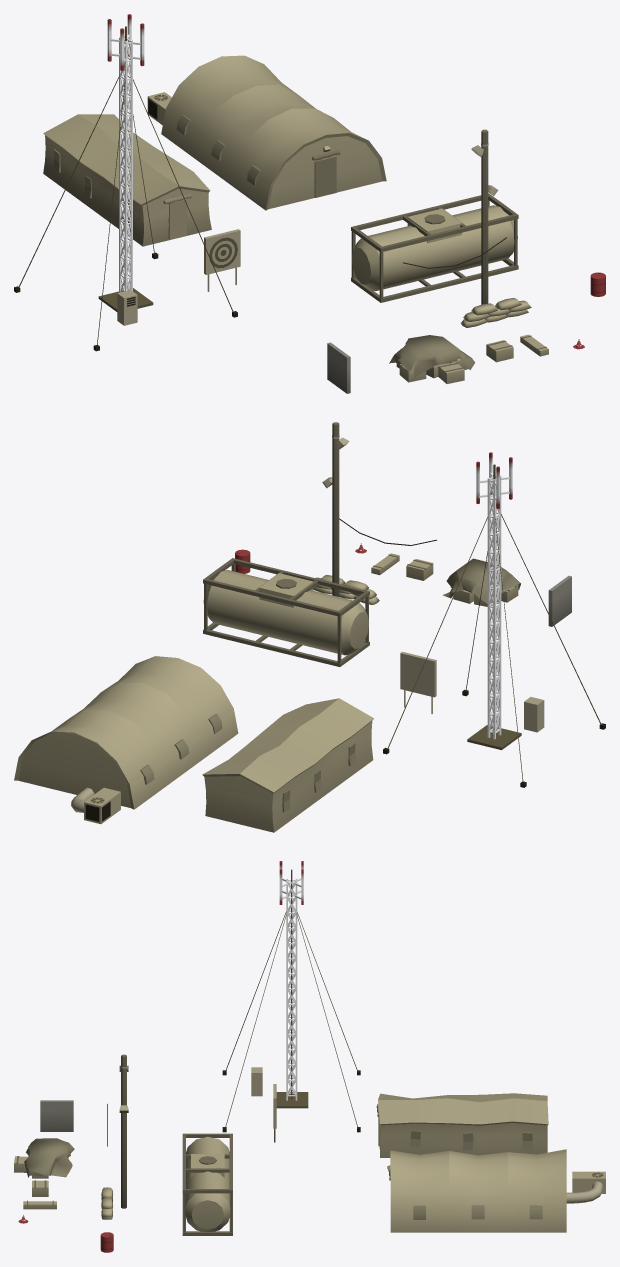
File: Military Base Props.fbx
The picture shows the model from 3 angles, top to bottom: view 1: azimuth 30°, elevation 25°; view 2: azimuth 150°, elevation 25°; view 3: azimuth 270°, elevation 25°; orthographic projection. The views are drawn at different scales.
Visible parts, largest first — view 1: Tent 02, Tent 01, Fuel Tank, Antenna, Boxes, Post, Shoot Target, Sand Bag, Wall, Refrigerator; view 2: Tent 02, Tent 01, Fuel Tank, Antenna, Boxes, Post, Shoot Target, Refrigerator, Wall, Sand Bag; view 3: Tent 02, Tent 01, Fuel Tank, Antenna, Boxes, Wall, Refrigerator, Post.
Boxes of the visible parts, x1,y1,x2,y2 form: Tent 02: (161, 55, 386, 210); Tent 01: (43, 114, 211, 246); Fuel Tank: (351, 193, 518, 302); Antenna: (14, 14, 237, 351); Boxes: (389, 335, 475, 383); Post: (471, 129, 498, 304); Shoot Target: (204, 229, 240, 291); Sand Bag: (460, 298, 531, 327); Wall: (327, 342, 350, 393); Refrigerator: (147, 92, 171, 124); Tent 02: (14, 656, 238, 809); Tent 01: (202, 698, 373, 832); Fuel Tank: (203, 558, 369, 666); Antenna: (383, 452, 605, 787); Boxes: (442, 558, 520, 606); Post: (322, 422, 349, 596); Shoot Target: (400, 651, 436, 713); Refrigerator: (71, 787, 120, 823); Wall: (548, 575, 571, 626); Sand Bag: (313, 575, 379, 604); Tent 02: (387, 1149, 566, 1232); Tent 01: (376, 1093, 548, 1157); Fuel Tank: (182, 1133, 232, 1235); Antenna: (222, 861, 360, 1132); Boxes: (14, 1138, 74, 1178); Wall: (40, 1100, 73, 1131); Refrigerator: (566, 1171, 605, 1203); Post: (119, 1054, 128, 1208).
Size of the model in its own units: 2550 by 1566 by 3531.
